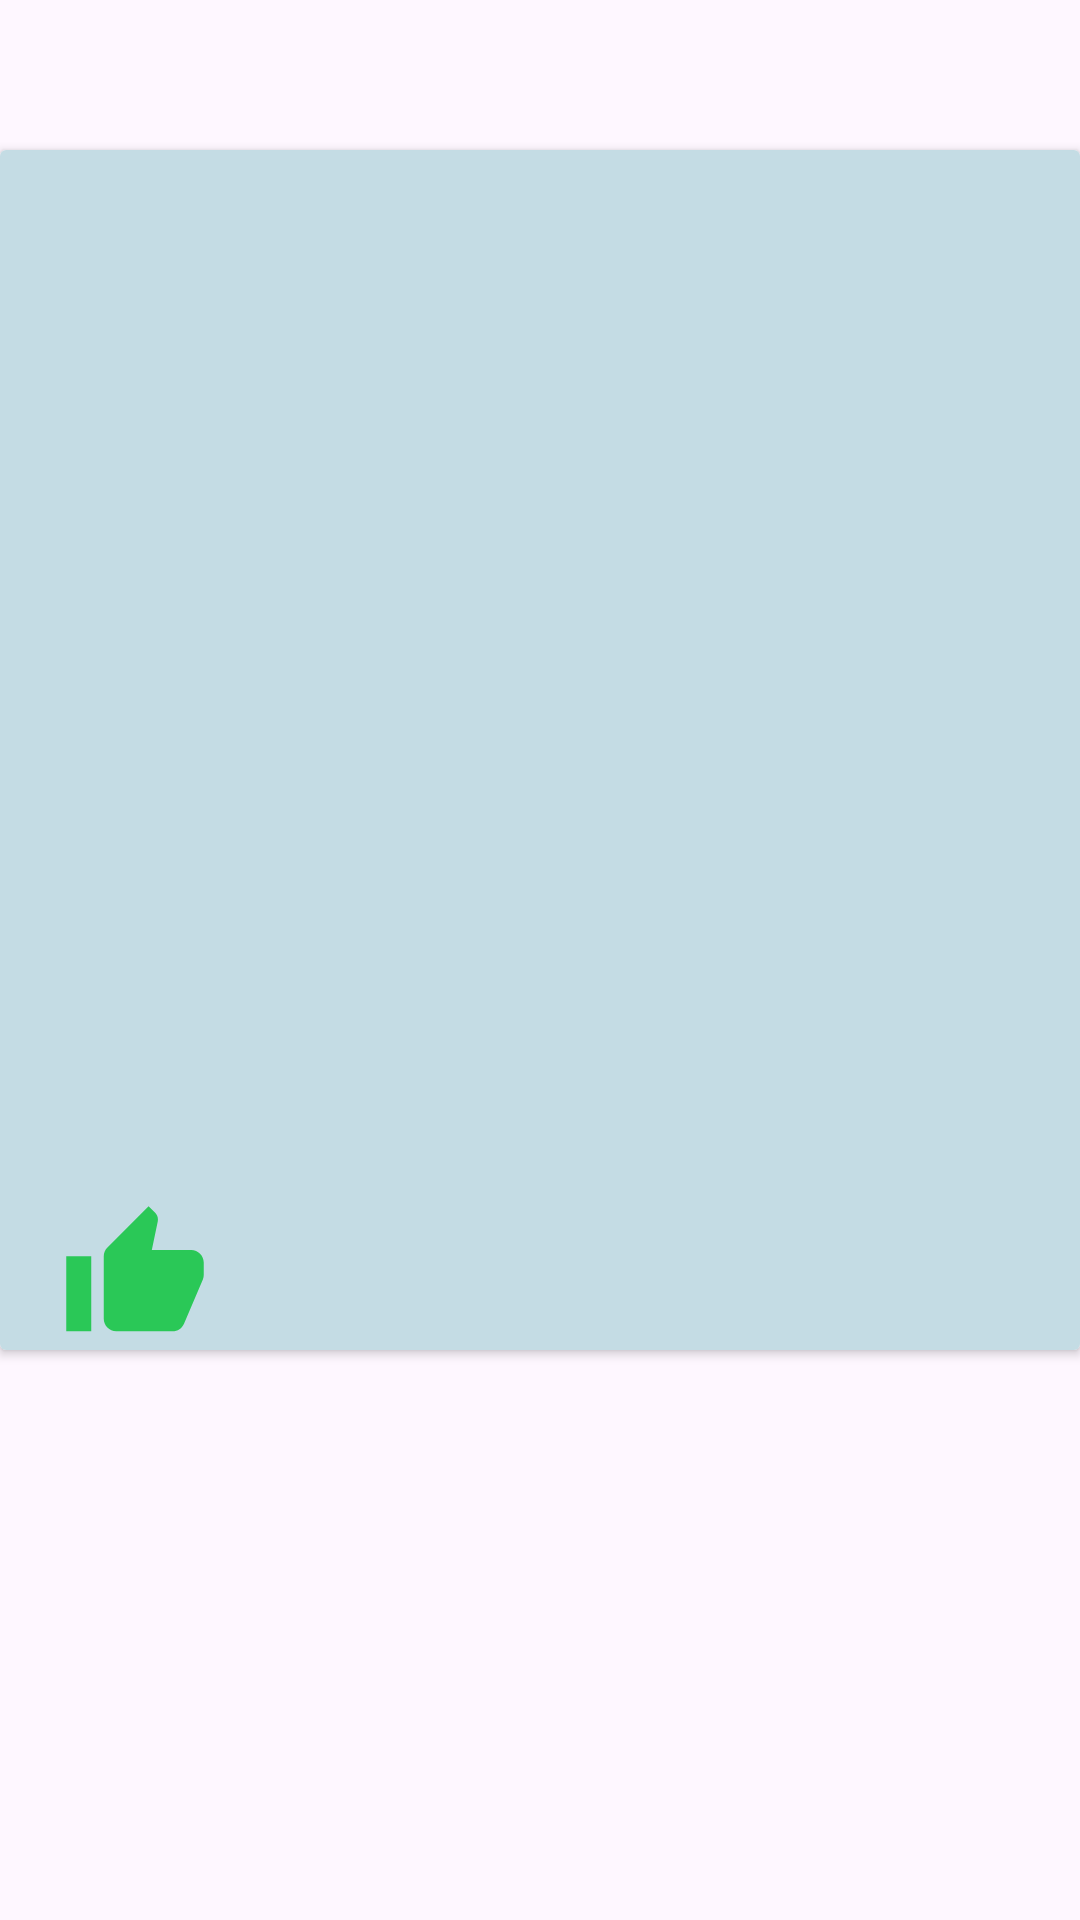

Named icons in this screenshot (1080x1920) and their bounding boxes, region(x1, y1, x2, y2):
like: region(66, 1206, 204, 1332)
